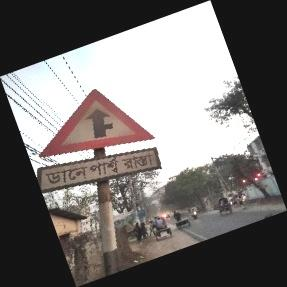Side-road-right: (30, 84, 173, 193)
